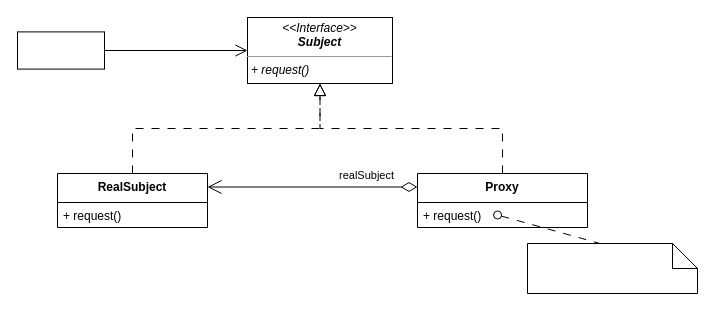
Image size: 715x311. Some labels were removed from this diagram. Each missing label, with the box of its shape:
Client: (16, 31, 104, 69)
this.realSubject.request() // some code...: (526, 242, 698, 294)
